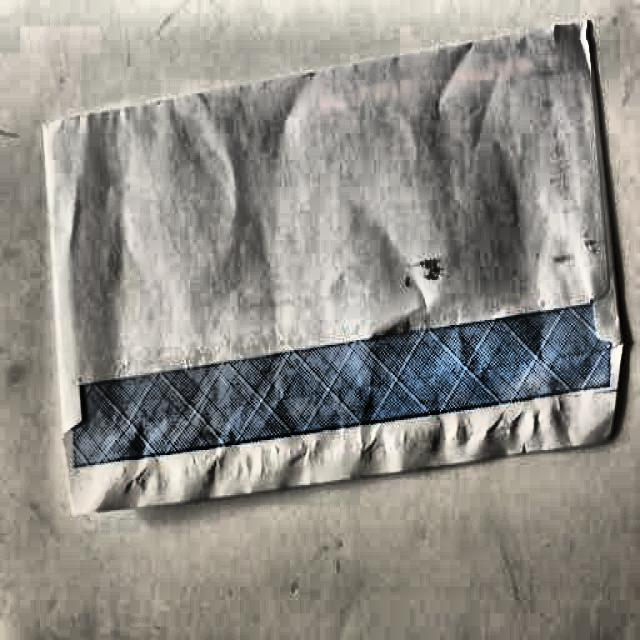paper: (45, 28, 629, 512)
